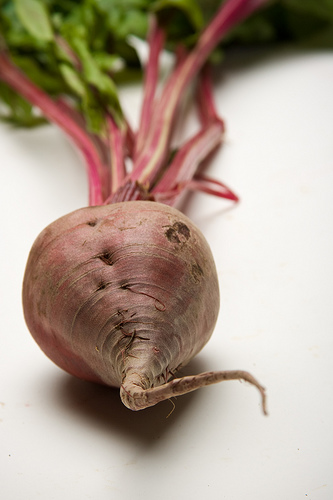turnip: (0, 0, 299, 423)
